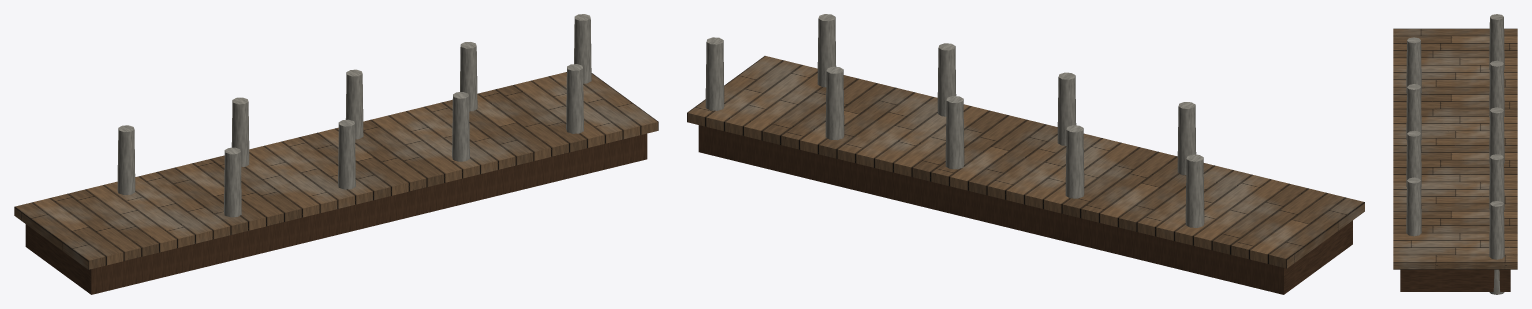
Rendered from SM_Art_MangrovesRoute.gltf.
The picture shows the model from 3 angles, left to right: view 1: azimuth 30°, elevation 25°; view 2: azimuth 150°, elevation 25°; view 3: azimuth 270°, elevation 25°; orthographic projection. The views are drawn at different scales.
Visible parts, largest first — view 1: SM_Art_MangrovesRoute; view 2: SM_Art_MangrovesRoute; view 3: SM_Art_MangrovesRoute.
Part boxes in pixels (left/top/right/bottom): SM_Art_MangrovesRoute: left=14, top=14, right=658, bottom=294; SM_Art_MangrovesRoute: left=687, top=14, right=1364, bottom=294; SM_Art_MangrovesRoute: left=1393, top=14, right=1517, bottom=294.
Size of the model in its own units: 8 by 1.4 by 1.8.
Materials: 3 (3 with a texture image).
